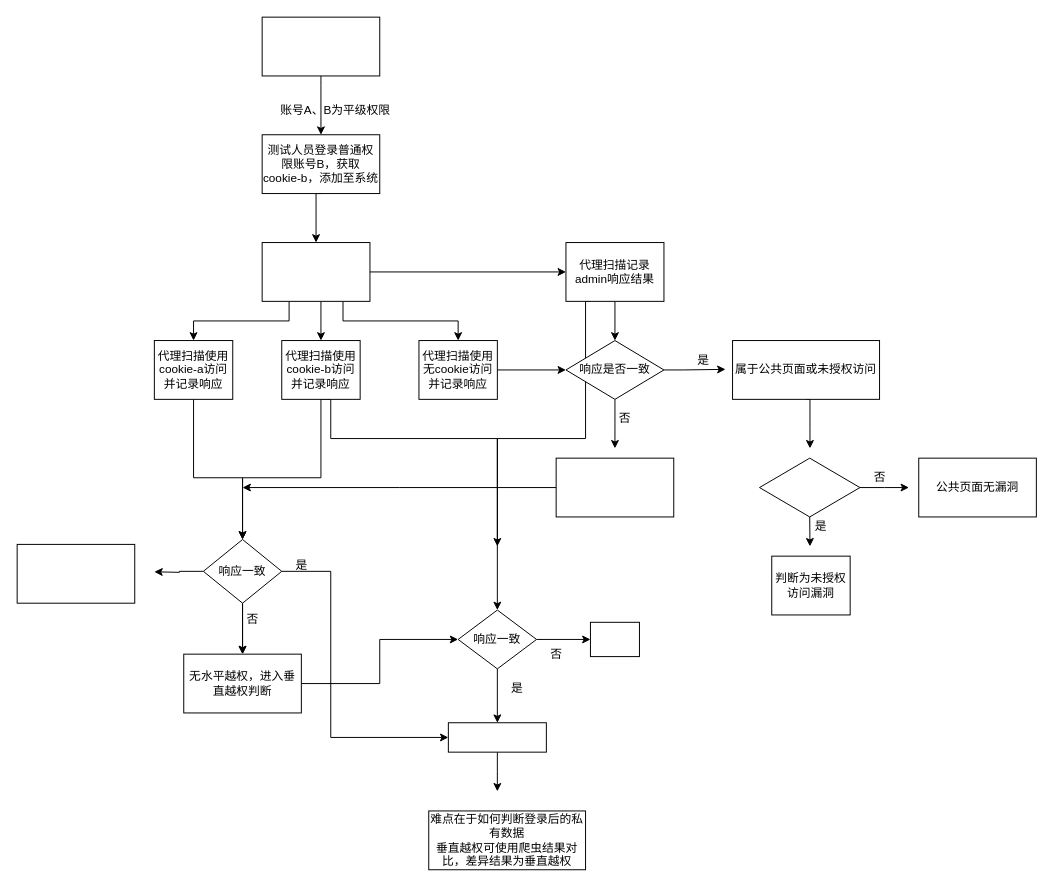
Image size: 1054x887. Some labels were removed from this diagram. Each missing label, with the box of its shape:
人工查看是否存在敏感内容: (759, 457, 860, 517)
可能为公共页面或水平、垂直越权: (447, 722, 546, 752)
响应一致还是页面相似度？也是难点。如排除类似时间变化等变化值。: (16, 543, 135, 603)
无漏洞: (589, 621, 639, 657)
测试人员使用管理员账号admin登录，访问各功能点: (261, 242, 370, 301)
测试人员登录普通权限账号A，获取cookie-a，添加至系统: (261, 16, 380, 76)
进入越权检测逻辑: (555, 457, 674, 517)
